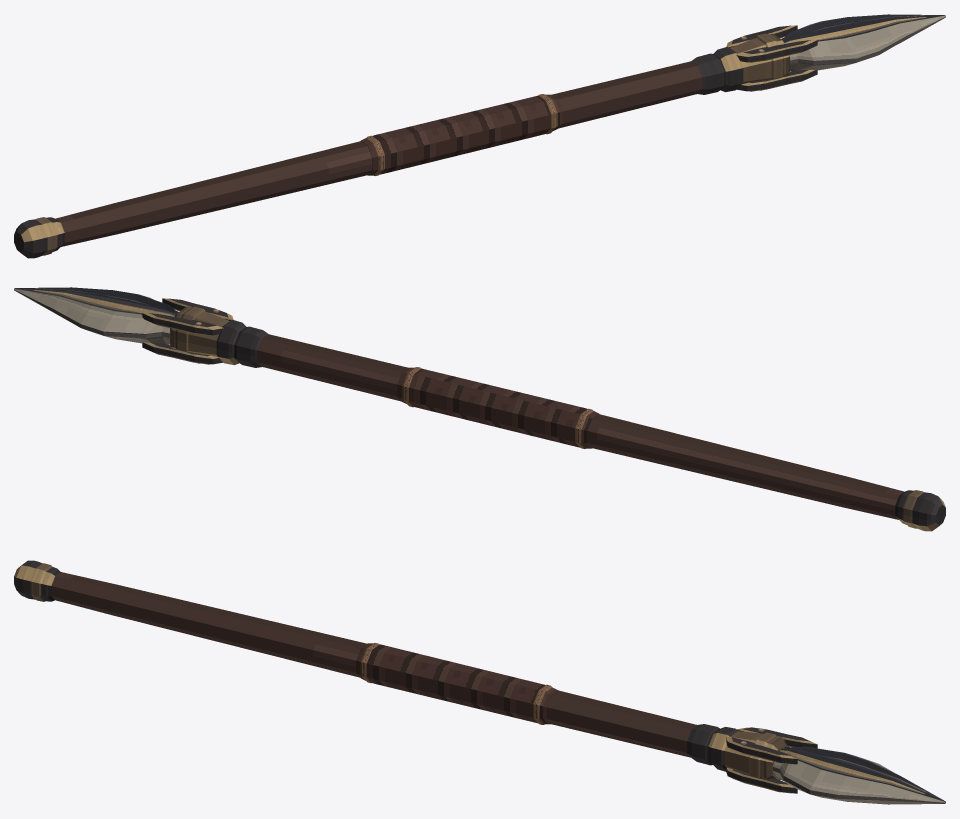
The model's file is bench_xuantie_spear_5.obj.
3 views of the same model, one above another, from view 1: azimuth 30°, elevation 25°; view 2: azimuth 150°, elevation 25°; view 3: azimuth 330°, elevation 25° (orthographic).
Parts seen in each view (by area): view 1: geometry; view 2: geometry; view 3: geometry.
Boxes of the visible parts, box(x1,y1,x2,y2) form: geometry: box(14, 14, 945, 258); geometry: box(14, 287, 945, 531); geometry: box(14, 560, 945, 804).
Bounding box in the file's own units: 0.75 × 0.0338 × 0.065.
